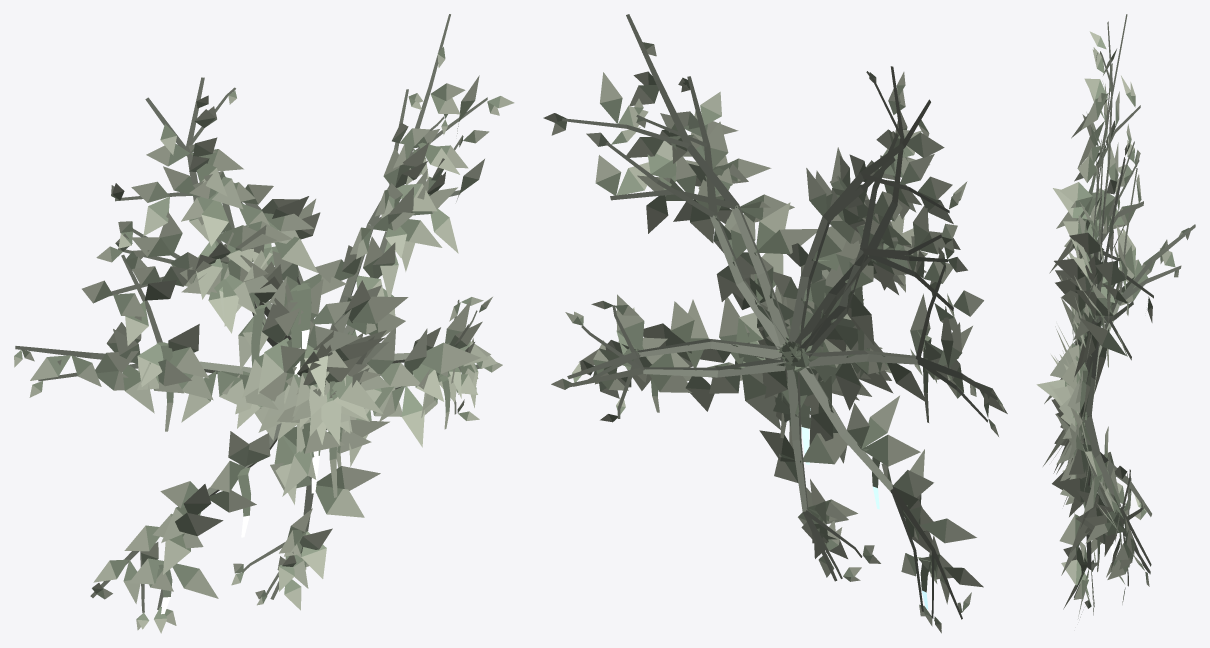
Rendered from plant_t1_s3_b.fbx.
3 views of the same model, side by side, from view 1: azimuth 30°, elevation 25°; view 2: azimuth 150°, elevation 25°; view 3: azimuth 270°, elevation 25° (orthographic). The views are drawn at different scales.
Parts seen in each view (by area): view 1: plant_t1_s3_b; view 2: plant_t1_s3_b; view 3: plant_t1_s3_b.
Boxes of the visible parts, x1,y1,x2,y2 form: plant_t1_s3_b: (14, 14, 514, 633); plant_t1_s3_b: (543, 14, 1007, 633); plant_t1_s3_b: (1036, 14, 1195, 618).
Bounding box in the file's own units: 29.32 × 31.92 × 7.99.
